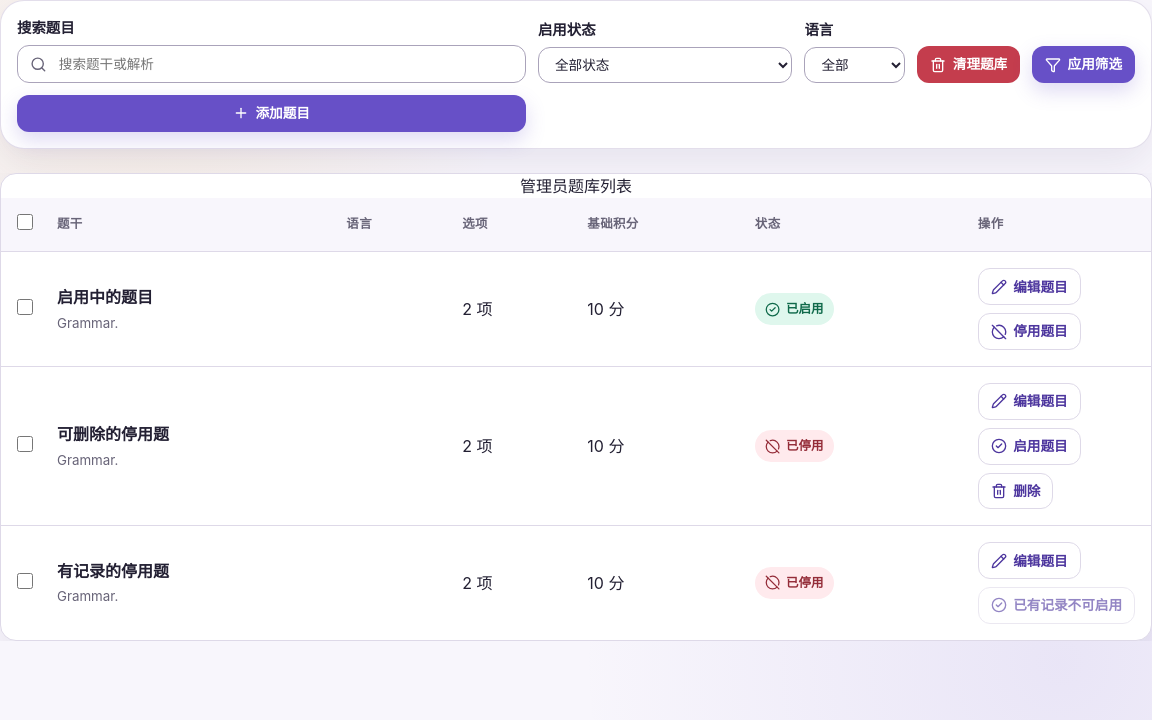
Test: AdminQuestionsPage 批量操作 › 无勾选不显示批量工具条，勾选后显示
Expected: the text "可删除的停用题" is shown, [57,424,169,444]
Step 1. Click the checkbox named "选择题目「可删除的停用题」" → (25, 444), box [17,436,33,452]
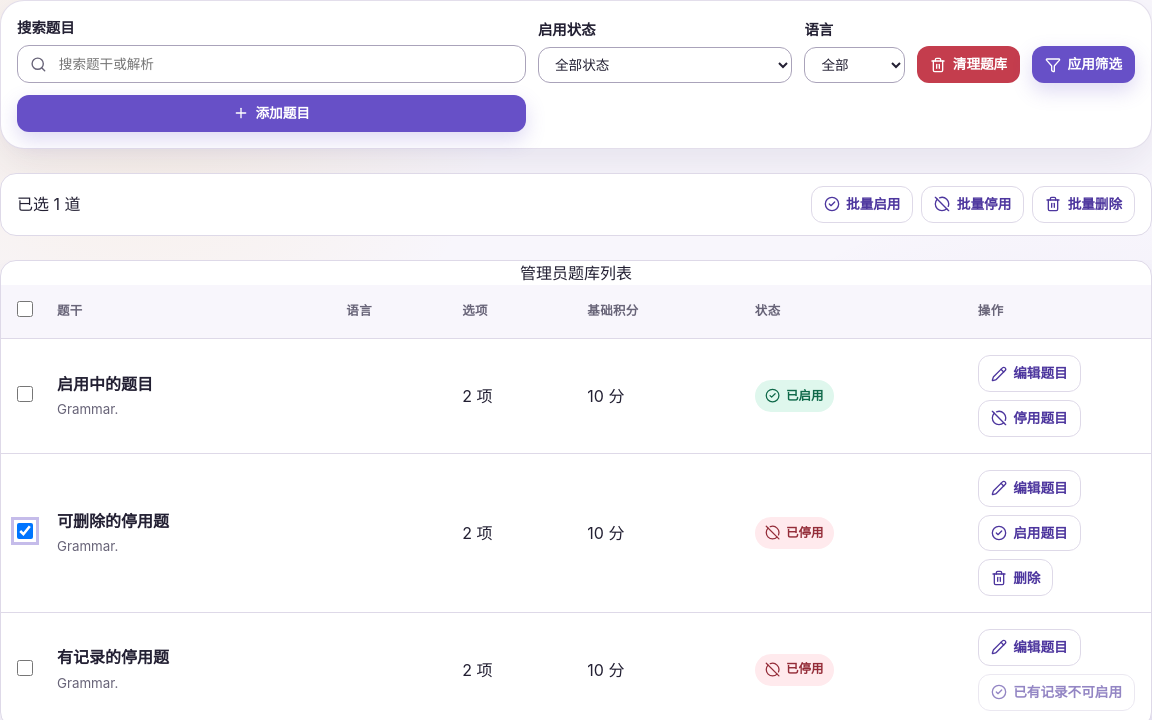
Expected: the element named "批量操作" is shown, [0,173,1151,236]
Expected: the text "已选 1 道" is shown, [17,192,80,216]
